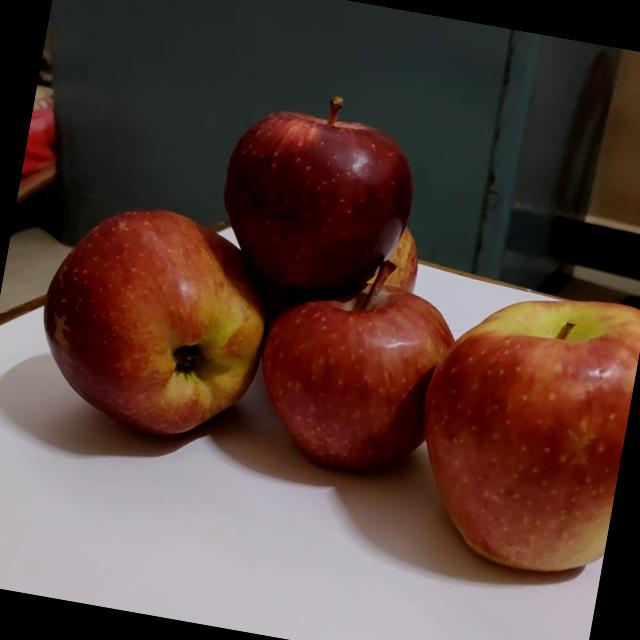apple: (29, 184, 303, 450), (413, 266, 640, 582), (208, 67, 444, 311), (256, 234, 479, 485), (362, 205, 434, 292)
